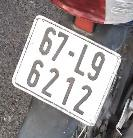1: (64, 73, 74, 111)
2: (74, 79, 91, 118), (43, 65, 59, 102)
6: (40, 23, 56, 60), (28, 57, 43, 95)
7: (54, 26, 67, 64)
9: (89, 46, 105, 83)
L: (74, 39, 87, 78)
